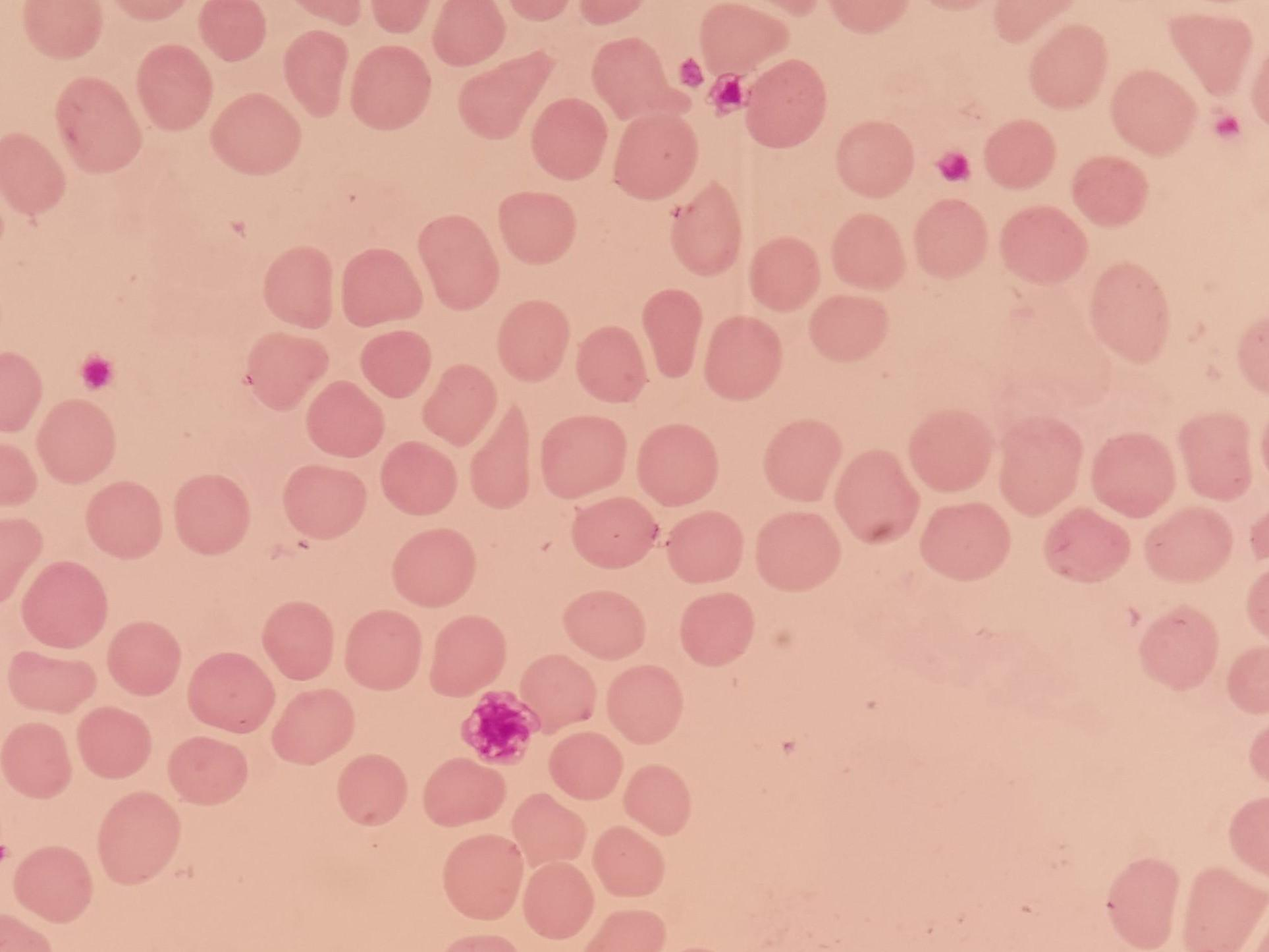Uninfected: (589, 33, 690, 123), (54, 76, 142, 176), (995, 420, 1086, 514), (461, 51, 552, 145), (835, 445, 920, 543), (209, 93, 304, 177), (97, 793, 182, 886), (744, 58, 828, 152), (421, 214, 503, 310), (1088, 430, 1174, 520), (907, 406, 993, 495), (1166, 10, 1252, 99), (441, 830, 524, 922), (1110, 70, 1199, 155), (21, 562, 105, 651), (612, 119, 702, 202), (1106, 857, 1184, 952), (392, 526, 479, 611), (540, 412, 624, 500), (1027, 20, 1108, 111), (466, 399, 530, 513), (1143, 504, 1234, 584), (752, 513, 844, 592), (1093, 262, 1164, 364), (698, 315, 783, 400), (247, 330, 330, 416), (1177, 412, 1257, 501), (282, 462, 371, 542), (762, 419, 844, 505), (1139, 606, 1219, 694), (341, 247, 424, 331), (137, 43, 212, 135), (188, 653, 271, 736), (1192, 863, 1269, 952), (635, 424, 719, 505), (38, 397, 116, 484), (13, 844, 95, 926), (262, 246, 340, 332), (528, 98, 606, 184), (672, 183, 742, 278), (998, 205, 1081, 285), (354, 43, 428, 132), (273, 689, 357, 767), (428, 613, 504, 699), (1044, 508, 1130, 584), (571, 498, 660, 571), (665, 509, 748, 587), (421, 758, 509, 831), (924, 505, 1006, 583), (305, 378, 387, 456), (344, 613, 423, 692), (379, 442, 459, 520), (606, 662, 682, 744), (176, 475, 251, 558), (263, 600, 336, 684), (678, 592, 756, 670), (833, 211, 908, 292), (565, 588, 648, 661), (836, 121, 914, 198), (86, 480, 162, 559), (421, 363, 496, 443), (497, 191, 575, 267), (507, 791, 586, 866), (810, 292, 891, 365), (500, 300, 570, 383), (525, 862, 598, 941), (0, 132, 67, 217), (520, 653, 599, 725), (576, 326, 648, 405), (426, 0, 512, 66), (283, 31, 351, 114), (588, 824, 663, 899), (919, 198, 989, 278), (7, 653, 97, 715), (109, 620, 180, 698), (359, 326, 433, 400), (983, 116, 1056, 191), (642, 290, 703, 379), (79, 707, 154, 778), (749, 236, 820, 311), (1073, 157, 1148, 228), (621, 763, 690, 840), (550, 732, 623, 804), (170, 738, 247, 806), (339, 753, 407, 825), (5, 725, 70, 800), (25, 0, 103, 62), (199, 0, 267, 65)
